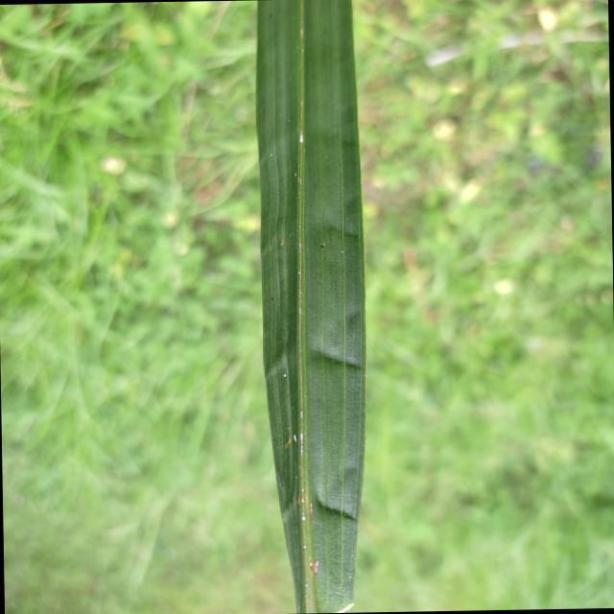Boron: (254, 3, 370, 614)
